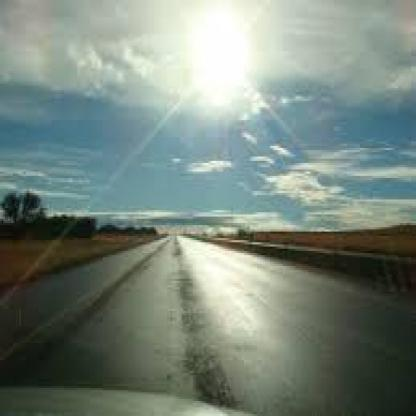other: (167, 4, 266, 113)
